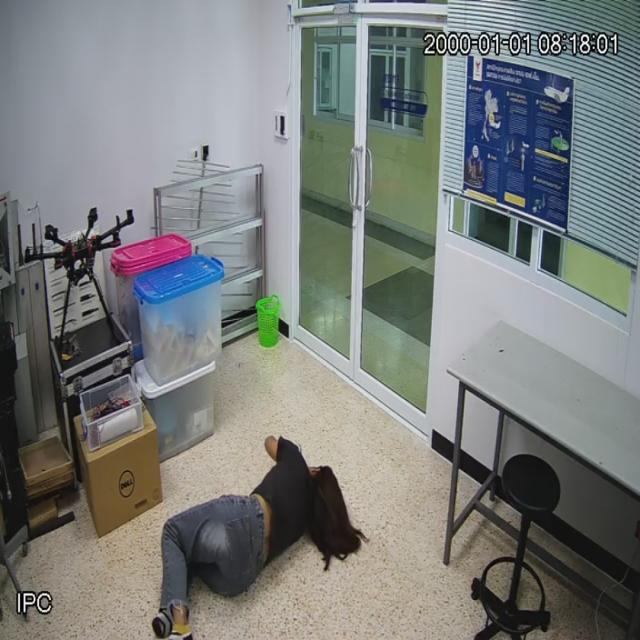fall: (148, 420, 365, 640)
